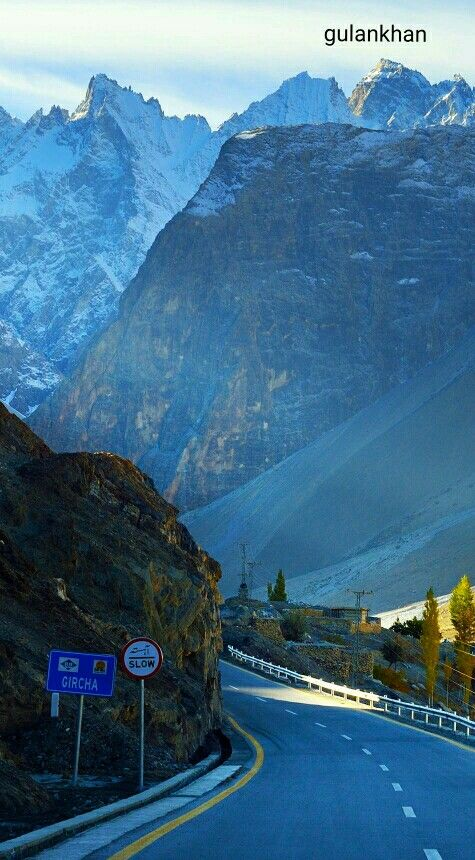leftTrun: (193, 656, 475, 844)
